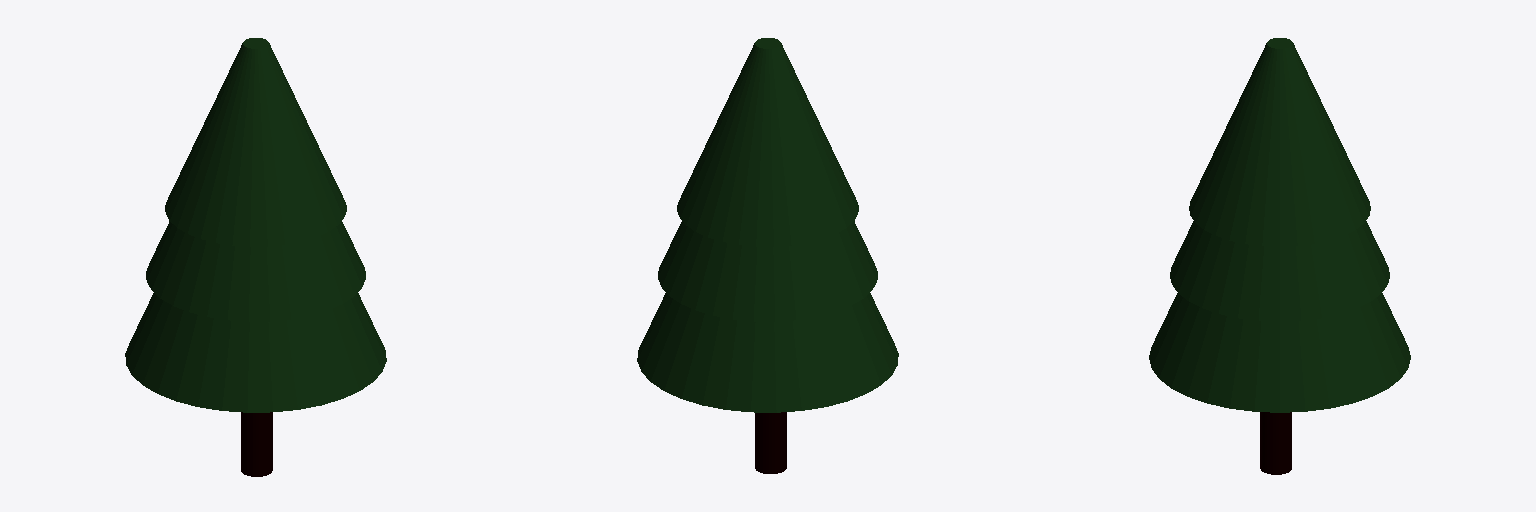
File: TreeSmall.obj
3 views of the same model, side by side, from view 1: azimuth 30°, elevation 25°; view 2: azimuth 150°, elevation 25°; view 3: azimuth 270°, elevation 25° (orthographic).
Parts seen in each view (by area): view 1: Cylinder.004; view 2: Cylinder.004; view 3: Cylinder.004.
Part boxes in pixels (left/top/right/bottom): Cylinder.004: left=125, top=38, right=386, bottom=476; Cylinder.004: left=637, top=38, right=898, bottom=473; Cylinder.004: left=1149, top=38, right=1410, bottom=474.
Bounding box in the file's own units: 7.18 × 12.86 × 7.18.